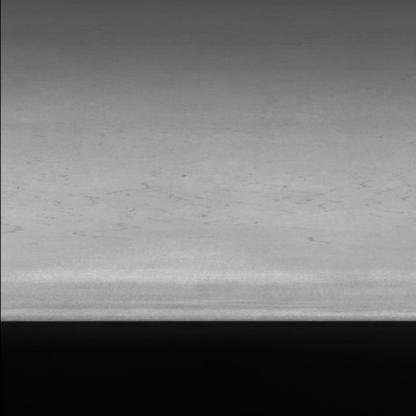silk_spot: (8, 171, 361, 248)
